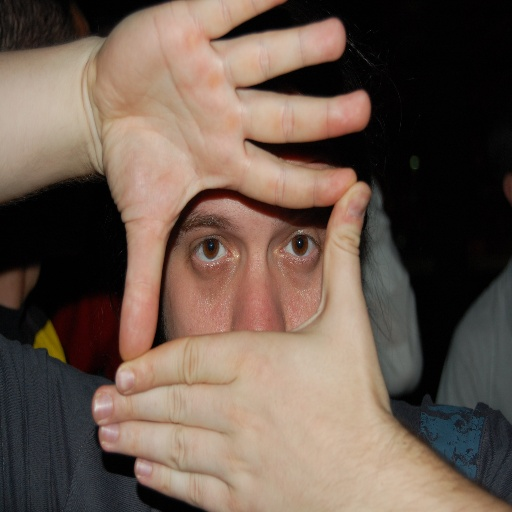hand: (94, 0, 371, 361), (90, 180, 392, 511)
